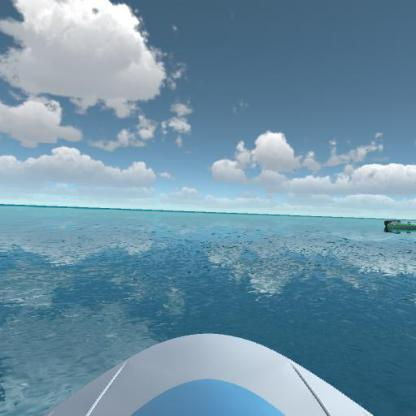usv0: (380, 211, 415, 240)
